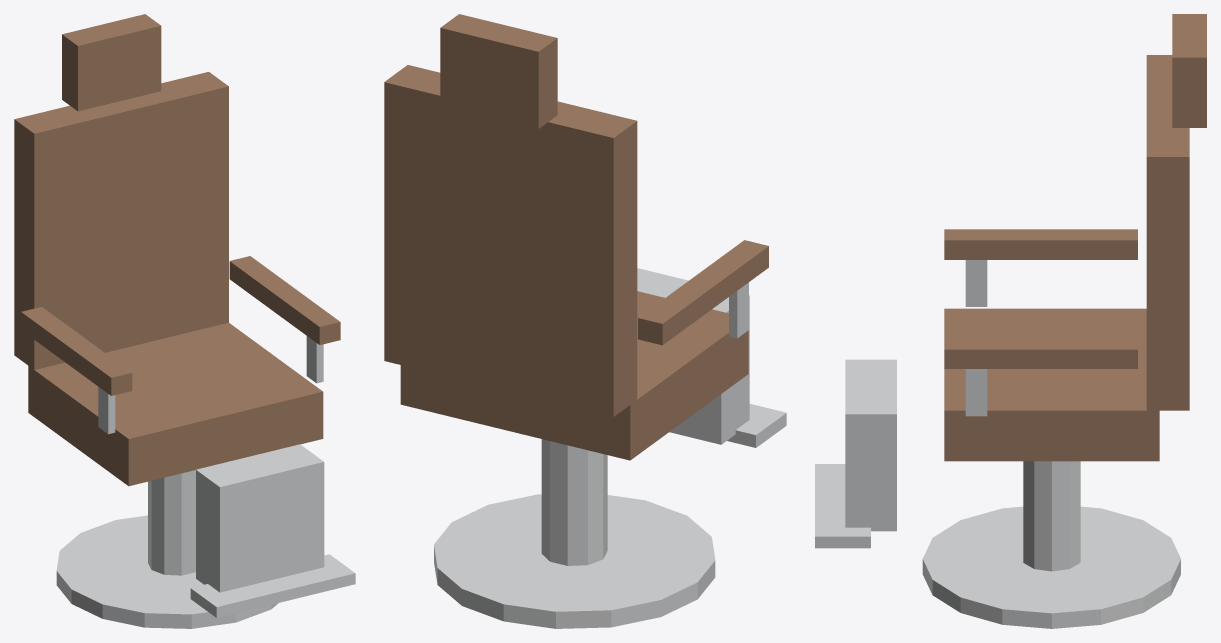
The model's file is Barber_Chair.fbx.
3 views of the same model, side by side, from view 1: azimuth 30°, elevation 25°; view 2: azimuth 150°, elevation 25°; view 3: azimuth 270°, elevation 25° (orthographic). The views are drawn at different scales.
Visible parts, largest first — view 1: Barber_Chair; view 2: Barber_Chair; view 3: Barber_Chair.
Part boxes in pixels (box(x1,y1,x2,y2)): Barber_Chair: box(14, 14, 355, 628); Barber_Chair: box(384, 14, 786, 628); Barber_Chair: box(815, 14, 1206, 628).
Bounding box in the file's own units: 0.66 × 1.38 × 0.91.
